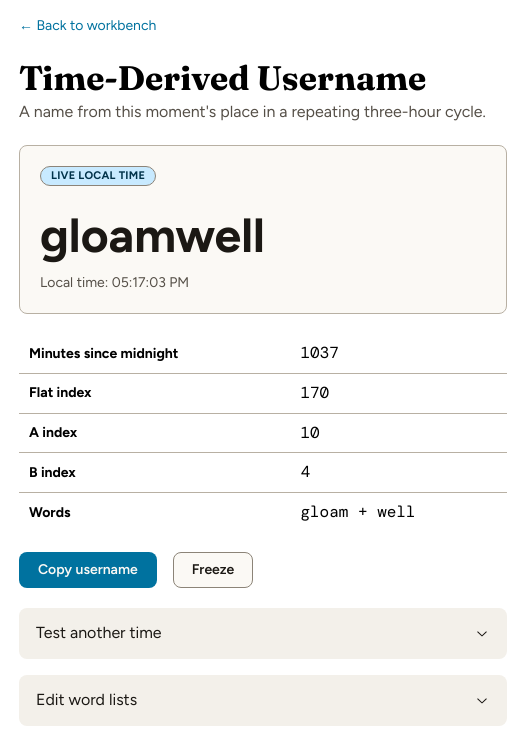
Scenario: UsernameSeedsPage › tests a manual time
Click the button "Test another time" at (99, 632), box [20,609,506,658]
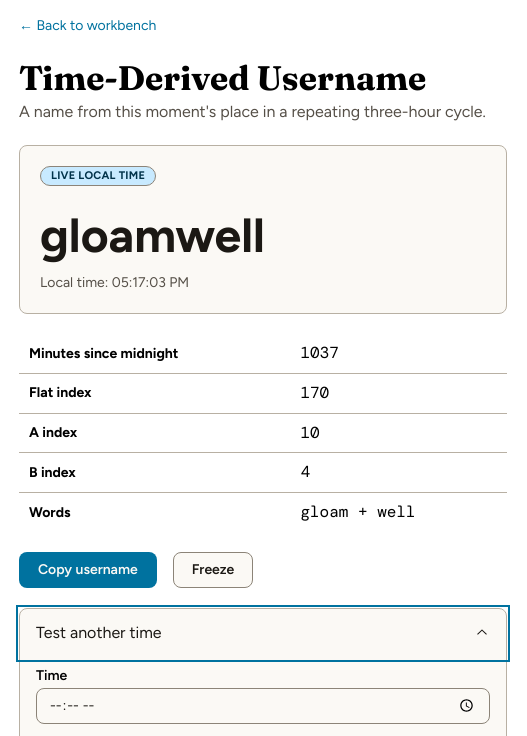
Type "09:30" into the time field labelled "Time" at (263, 706), box [36,688,490,724]
(page scrolled)
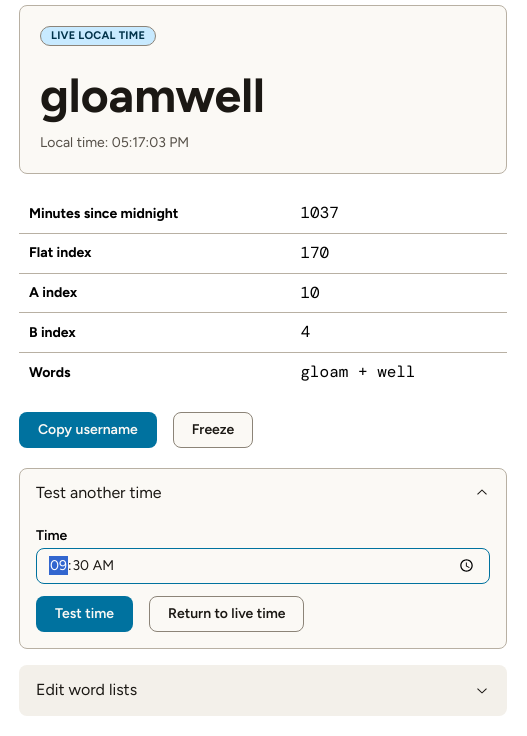
Click the button "Test time" at (84, 614), box [36,596,133,632]
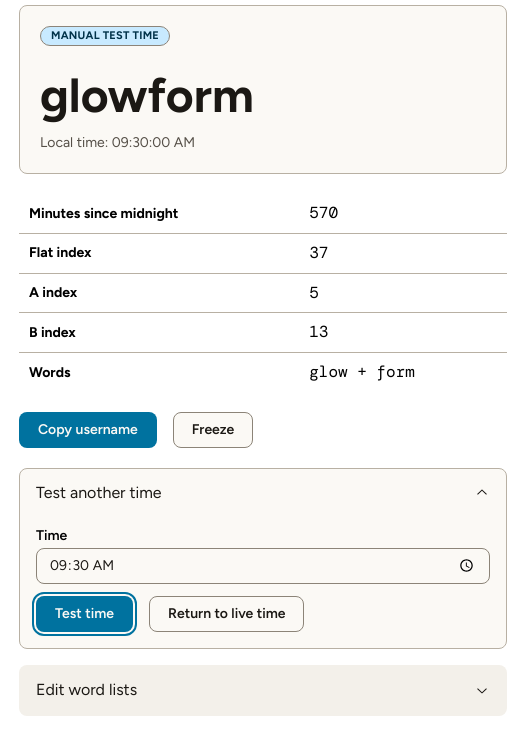
expect the text "Manual test time" is shown: met, box [51,27,159,45]
